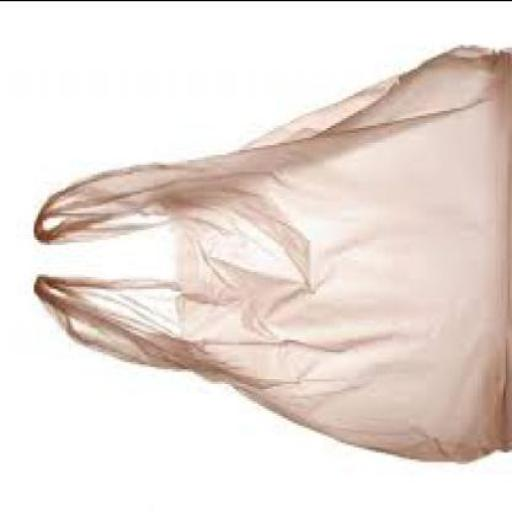plastic: (32, 47, 510, 465)
